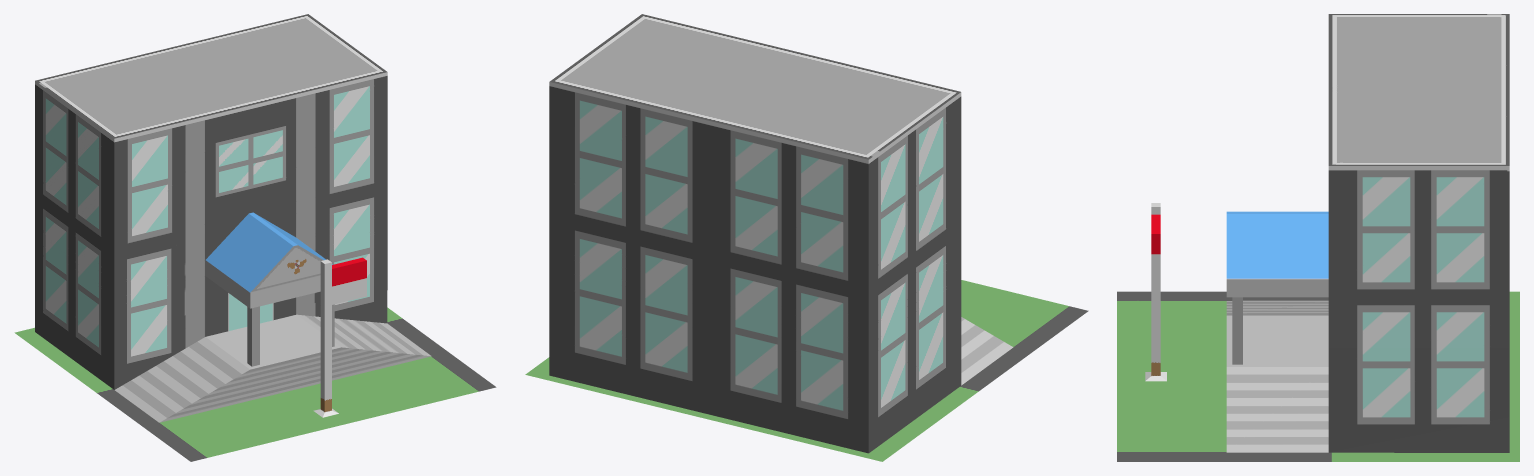
File: GovernmentOffice.fbx
The picture shows the model from 3 angles, left to right: view 1: azimuth 30°, elevation 25°; view 2: azimuth 150°, elevation 25°; view 3: azimuth 270°, elevation 25°; orthographic projection. The views are drawn at different scales.
Visible parts, largest first — view 1: GovernmentOffice, GovermentOffice_Ground; view 2: GovernmentOffice, GovermentOffice_Ground; view 3: GovernmentOffice, GovermentOffice_Ground.
Part boxes in pixels (x1=…): GovernmentOffice: x1=35, y1=14, x2=431, y2=422; GovermentOffice_Ground: x1=14, y1=307, x2=496, y2=461; GovernmentOffice: x1=549, y1=14, x2=1013, y2=453; GovermentOffice_Ground: x1=525, y1=280, x2=1088, y2=461; GovernmentOffice: x1=1145, y1=14, x2=1509, y2=452; GovermentOffice_Ground: x1=1117, y1=291, x2=1519, y2=461.
Size of the model in its own units: 445 by 350 by 445.
